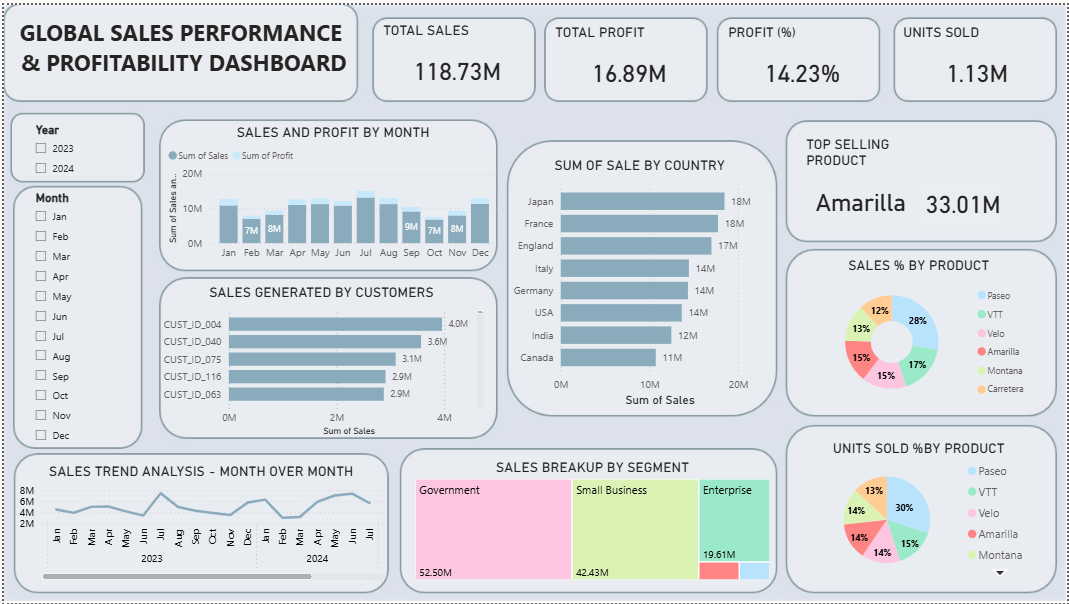

The page's visual inventory and layout, read from the dashboard file:
{"tool":"powerbi","page":{"name":"Page 1","canvas":[1280,720],"ordinal":0},"visuals":[{"type":"card","title":"TOP SELLING PRODUCT","fields":{"Values":["Min(Sales Data.Product_Name)"]},"box":[961.5,158.4,141.3,119.6],"z":3000},{"type":"donutChart","title":"SALES % BY PRODUCT","fields":{"Category":["Sales Data.Product_Name"],"Y":["Sum(Sales Data.Sales)"]},"box":[961.5,303,281.4,185.7],"z":5000},{"type":"pieChart","title":"UNITS SOLD  %BY PRODUCT","fields":{"Category":["Sales Data.Product_Name"],"Y":["Sum(Sales Data.Units Sold)"]},"box":[961.5,524.1,281.4,173.2],"z":6000},{"type":"treemap","title":"SALES BREAKUP BY SEGMENT","fields":{"Group":["Sales Data.Segment"],"Values":["Sum(Sales Data.Sales)"]},"box":[489.9,546.8,437.5,150.4],"z":7000},{"type":"lineChart","title":"SALES TREND ANALYSIS - MONTH OVER MONTH","fields":{"Y":["Sum(Sales Data.Sales)"],"Category":["Sales Data.Date.Variation.Date Hierarchy.Year","Sales Data.Month Name"]},"box":[13.7,551.4,448.9,145.8],"z":8000},{"type":"slicer","fields":{"Values":["Sales Data.Year"]},"box":[25.1,137.8,96.8,91.1],"z":9000},{"type":"slicer","fields":{"Values":["Sales Data.Month Name"]},"box":[25.1,218.7,96.8,320.1],"z":10000},{"type":"textbox","box":[0,9.1,396.5,92.3],"z":11000},{"type":"clusteredBarChart","title":"SALES GENERATED BY CUSTOMERS","fields":{"Y":["Sum(Sales Data.Sales)"],"Category":["Sales Data.Customer_ID"]},"box":[182.3,336.1,401,188],"z":12000},{"type":"columnChart","title":"SALES AND PROFIT BY MONTH","fields":{"Y":["Sum(Sales Data.Sales)","Sum(Sales Data.Profit)"],"Category":["Sales Data.Month Name"]},"box":[192.5,143.5,407.8,173.2],"z":13000},{"type":"barChart","title":"SUM OF SALE BY COUNTRY","fields":{"Category":["Sales Data.Country"],"Y":["Sum(Sales Data.Sales)"]},"box":[604.9,183.4,322.4,305.3],"z":14000},{"type":"card","title":"TOTAL PROFIT","fields":{"Values":["Sum(Sales Data.Profit)"]},"box":[658.5,22.8,188,95.7],"z":15000},{"type":"card","title":"TOTAL SALES","fields":{"Values":["Sum(Sales Data.Sales)"]},"box":[452.3,20.5,188,95.7],"z":16000},{"type":"card","title":"UNITS SOLD","fields":{"Values":["Sum(Sales Data.Units Sold)"]},"box":[1078.9,22.8,188,95.7],"z":16001},{"type":"card","title":"PROFIT (%)","fields":{"Values":["Sales Data.PROFIT (%)"]},"box":[867,22.8,188,95.7],"z":16002}]}

Visuals, with their boxes in screenshot pixels (x1, y1, x2, y2), scaled from the page's 1280x720 canvas onto the 1069x604 screenshot:
"TOP SELLING PRODUCT" card: Rect(803, 133, 921, 233)
"SALES % BY PRODUCT" donutChart: Rect(803, 254, 1038, 410)
"UNITS SOLD  %BY PRODUCT" pieChart: Rect(803, 440, 1038, 585)
"SALES BREAKUP BY SEGMENT" treemap: Rect(409, 459, 775, 585)
"SALES TREND ANALYSIS - MONTH OVER MONTH" lineChart: Rect(11, 463, 386, 585)
slicer - Sales Data.Year: Rect(21, 116, 102, 192)
slicer - Sales Data.Month Name: Rect(21, 183, 102, 452)
textbox: Rect(0, 8, 331, 85)
"SALES GENERATED BY CUSTOMERS" clusteredBarChart: Rect(152, 282, 487, 440)
"SALES AND PROFIT BY MONTH" columnChart: Rect(161, 120, 501, 266)
"SUM OF SALE BY COUNTRY" barChart: Rect(505, 154, 774, 410)
"TOTAL PROFIT" card: Rect(550, 19, 707, 99)
"TOTAL SALES" card: Rect(378, 17, 535, 97)
"UNITS SOLD" card: Rect(901, 19, 1058, 99)
"PROFIT (%)" card: Rect(724, 19, 881, 99)
